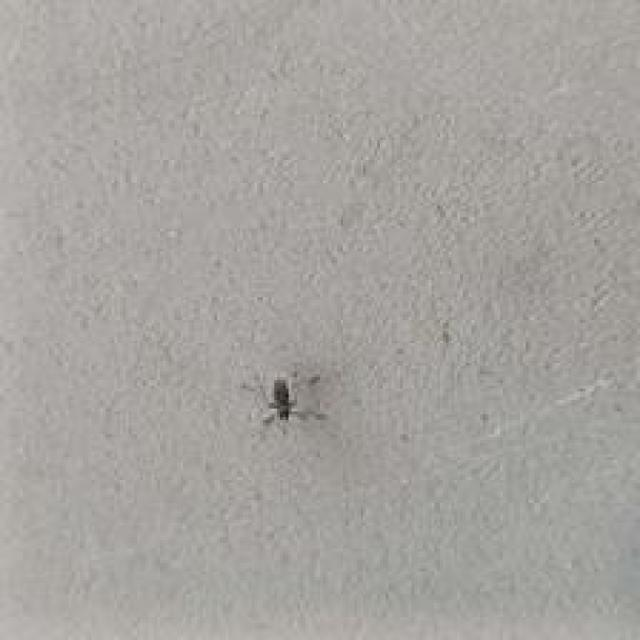Aedes albopictus: (250, 368, 324, 428)
